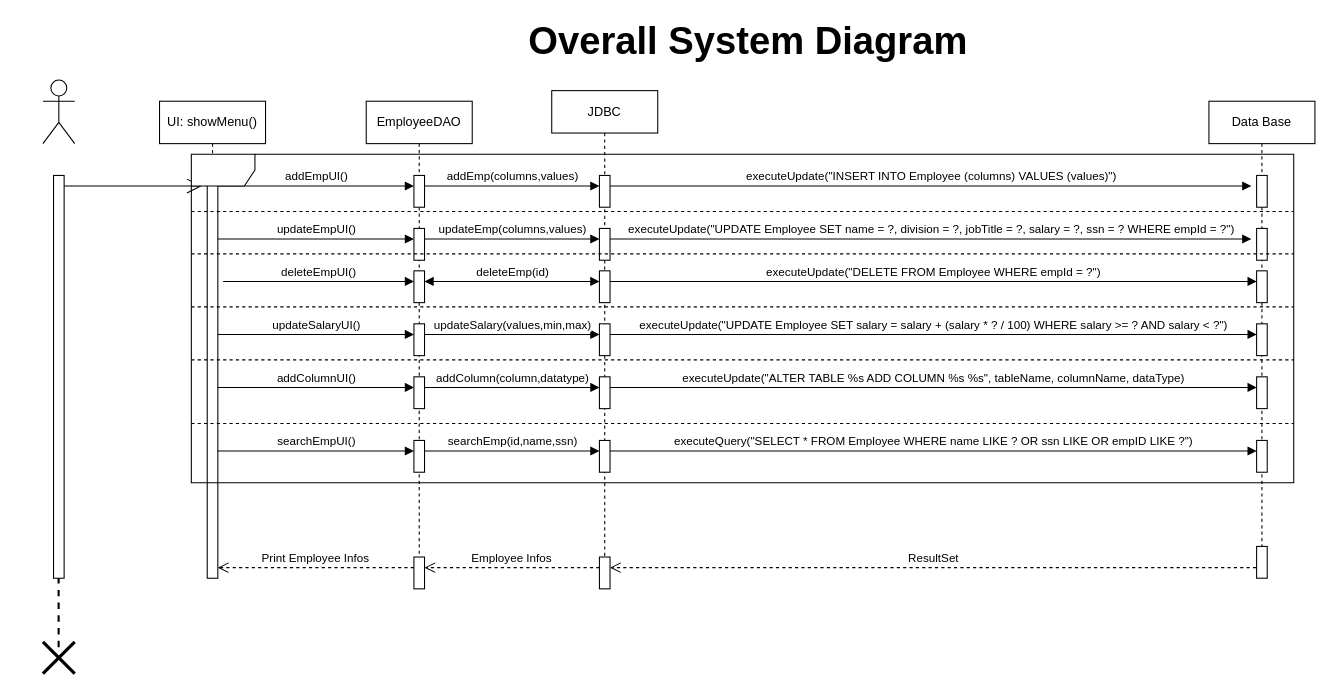
Image size: 1333x693. Some labels were removed from this diagram. Each missing label, with the box of its shape:
Administrator: (42, 79, 75, 144)
Alt: (190, 153, 1294, 483)
